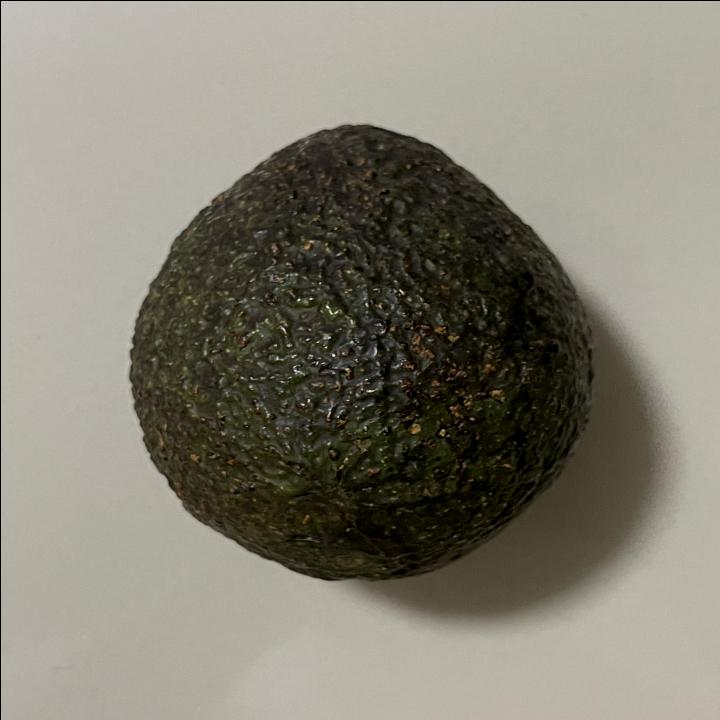Level1: (114, 112, 608, 590)
